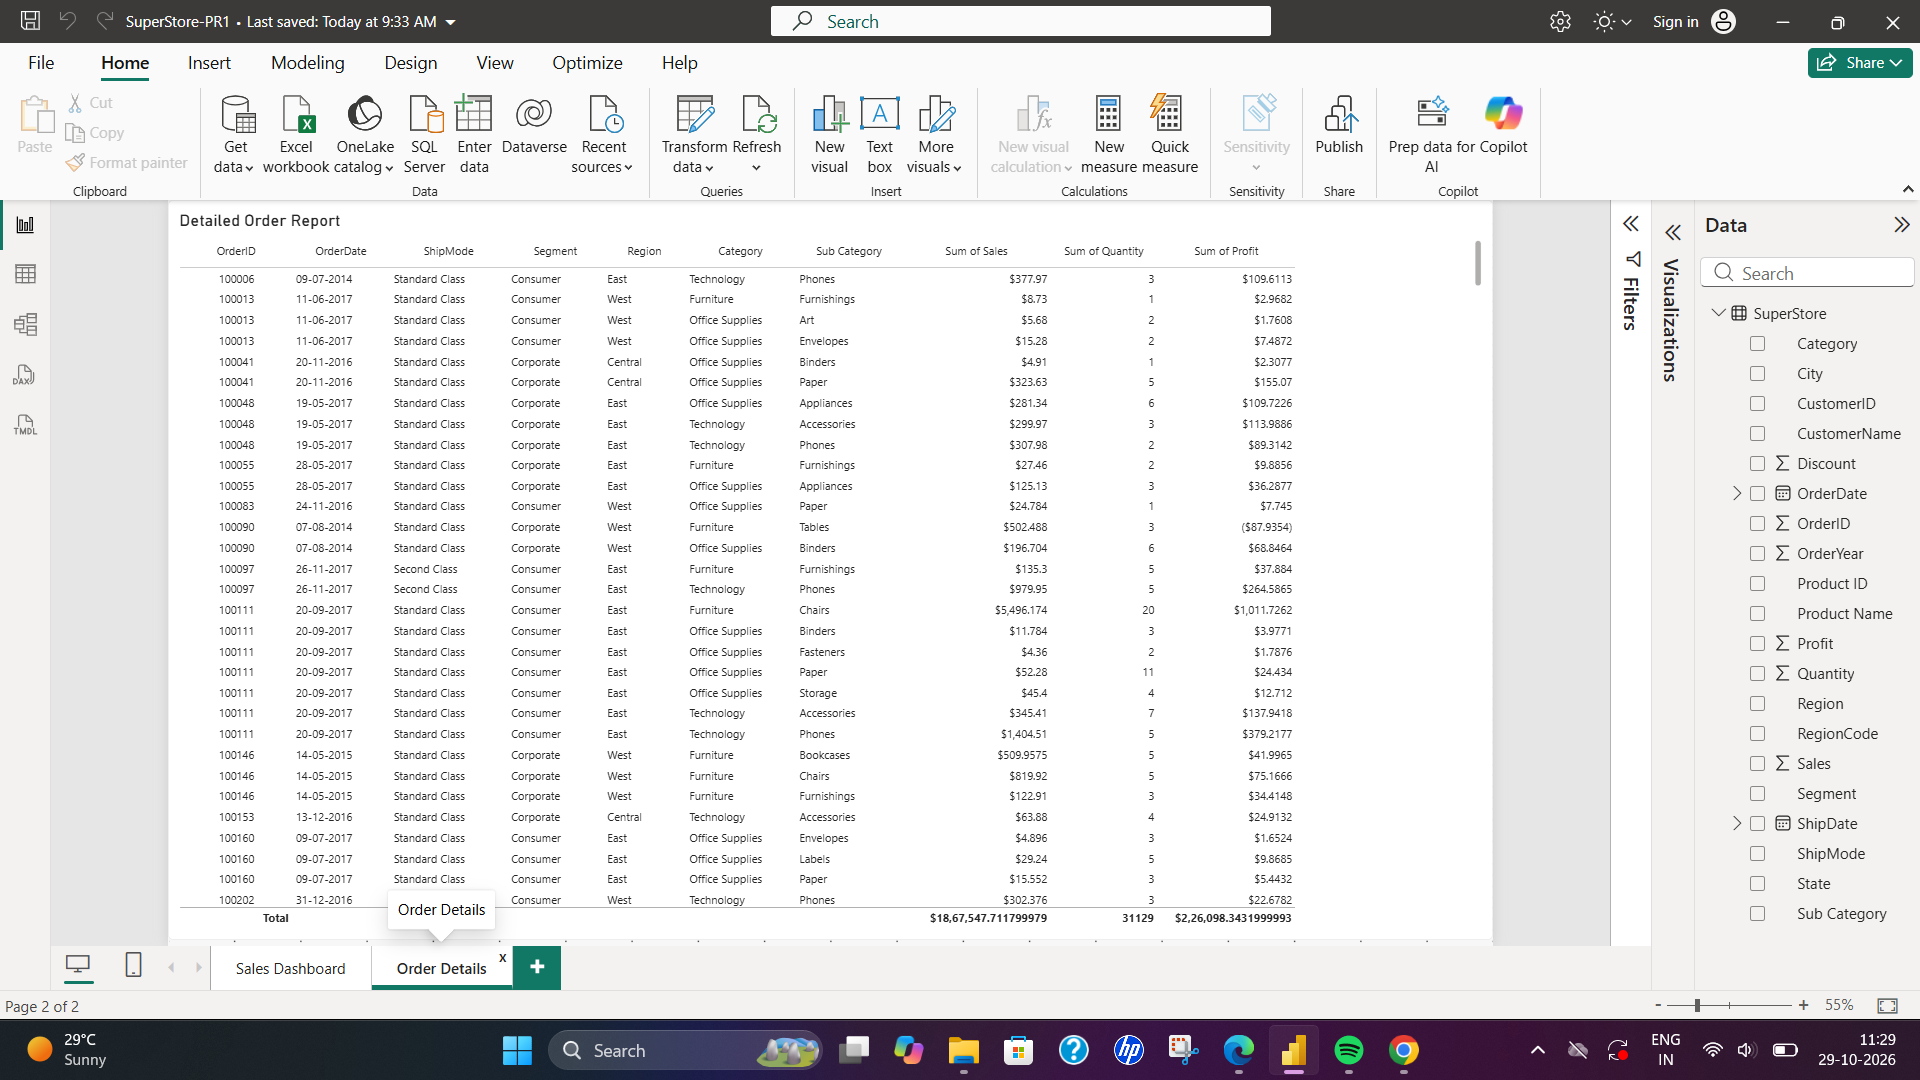

What the dashboard file says about the page in this screenshot:
{"tool":"powerbi","page":{"name":"Order Details","canvas":[1920,1080],"ordinal":1},"visuals":[{"type":"tableEx","title":"Detailed Order Report","fields":{"Values":["SuperStore.OrderID","SuperStore.OrderDate","SuperStore.ShipMode","SuperStore.Segment","SuperStore.Region","SuperStore.Category","SuperStore.Sub Category","Sum(SuperStore.Sales)","Sum(SuperStore.Quantity)","Sum(SuperStore.Profit)"]},"box":[0,0,1920,1072],"z":0}]}

Visuals, with their boxes on the page's 1920x1080 design canvas (x1, y1, x2, y2). These are canvas units, not pixel positions in the 1920x1080 screenshot, which may show the page scaled, cropped or inside an application window:
"Detailed Order Report" tableEx: {"x1": 0, "y1": 0, "x2": 1920, "y2": 1072}
